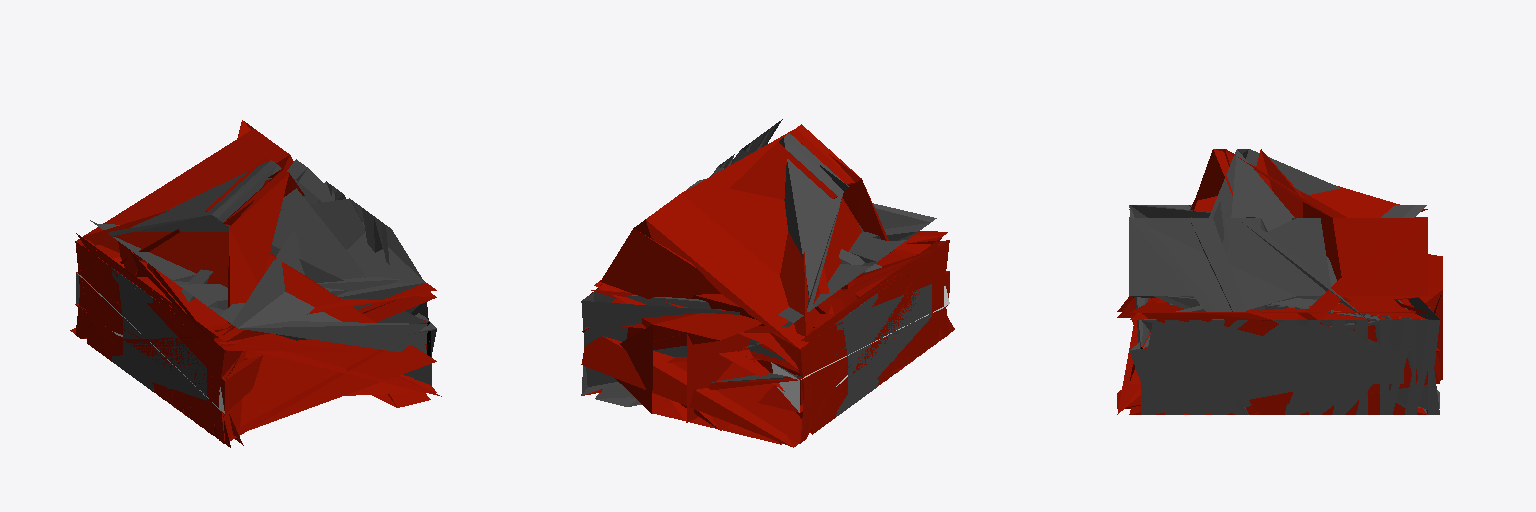
Rendered from Barn.obj.
3 views of the same model, side by side, from view 1: azimuth 30°, elevation 25°; view 2: azimuth 150°, elevation 25°; view 3: azimuth 270°, elevation 25° (orthographic).
Parts seen in each view (by area): view 1: Box095; view 2: Box095; view 3: Box095.
Boxes of the visible parts, <box> form: Box095: <box>70,120,441,447</box>; Box095: <box>581,119,954,447</box>; Box095: <box>1117,149,1442,414</box>.
Bounding box in the file's own units: 274312 × 264191 × 362857.